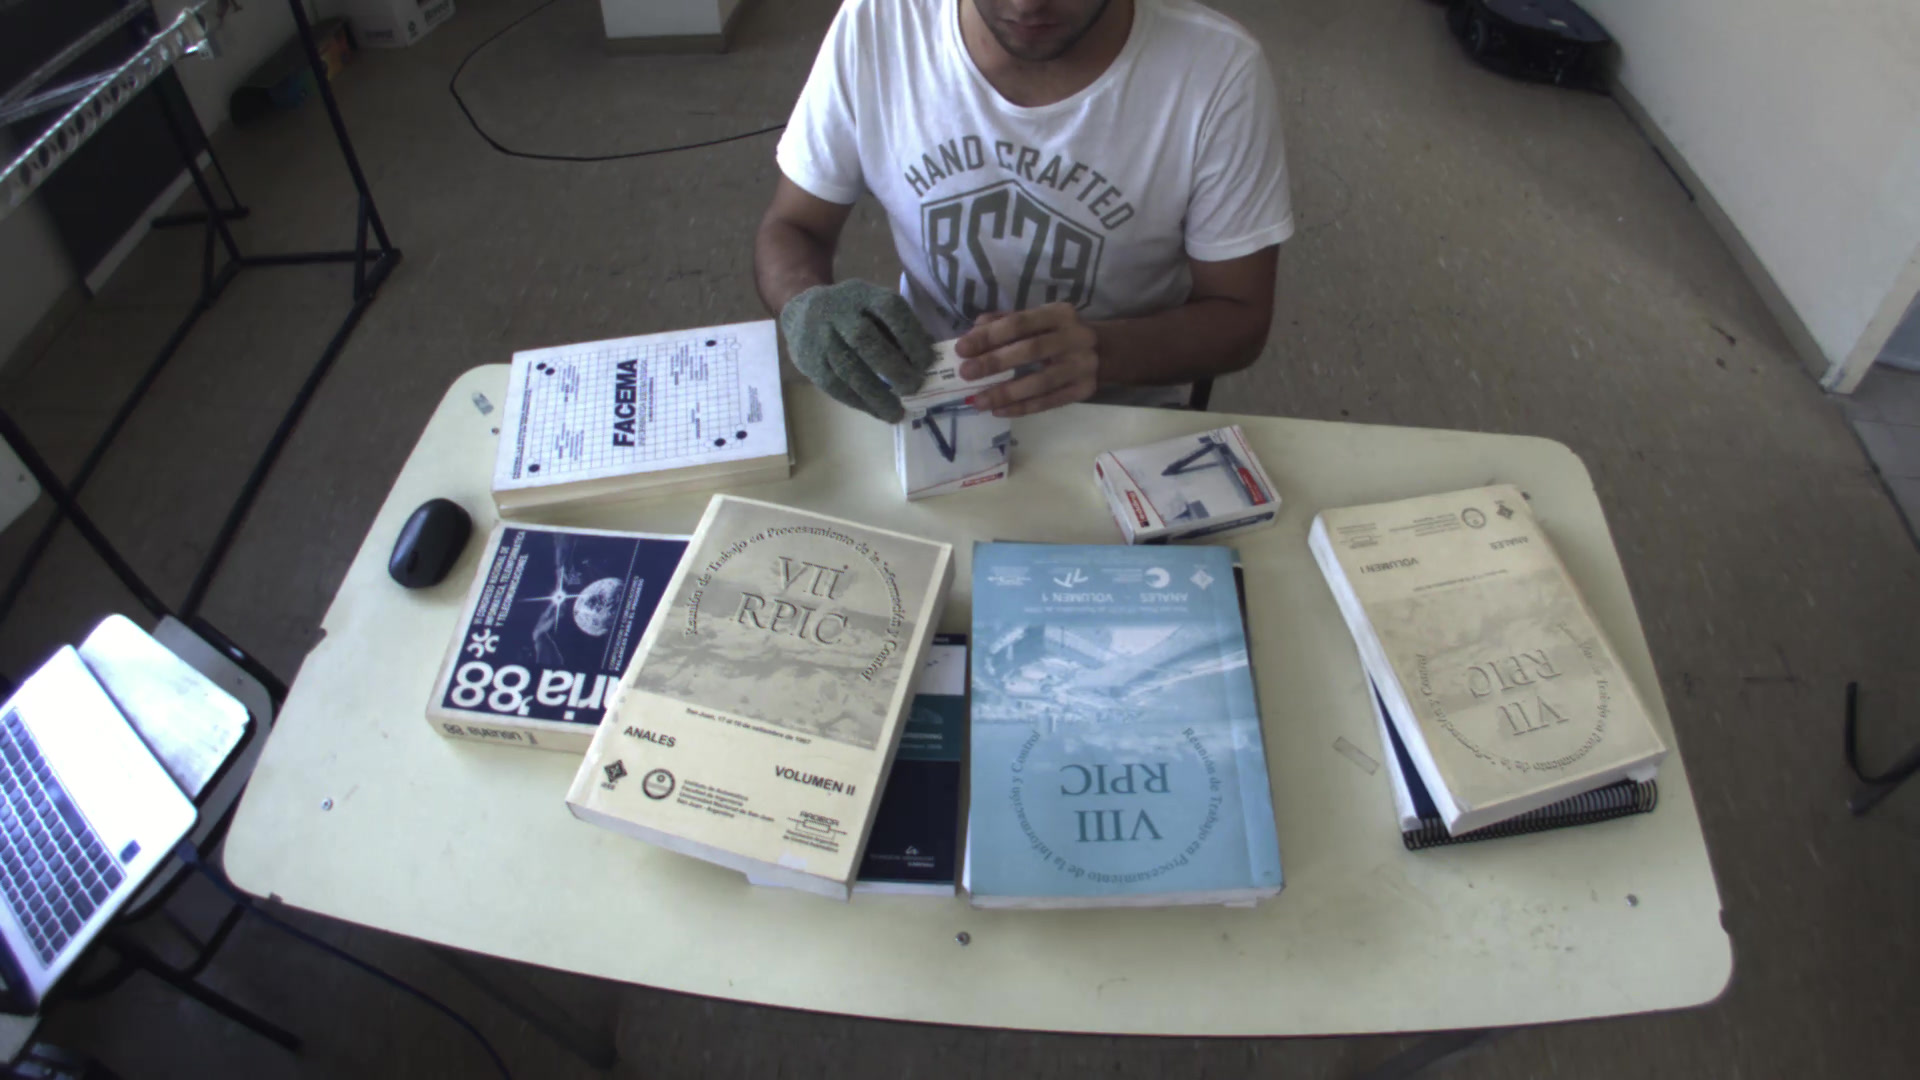hand: (762, 265, 940, 415), (942, 287, 1112, 425)
